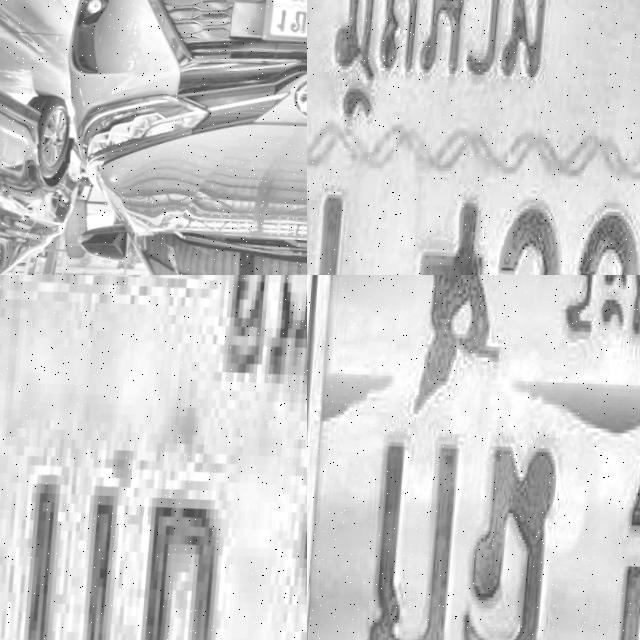license-plate: (307, 275, 640, 640), (0, 275, 307, 640), (307, 0, 640, 275), (246, 0, 307, 68)
